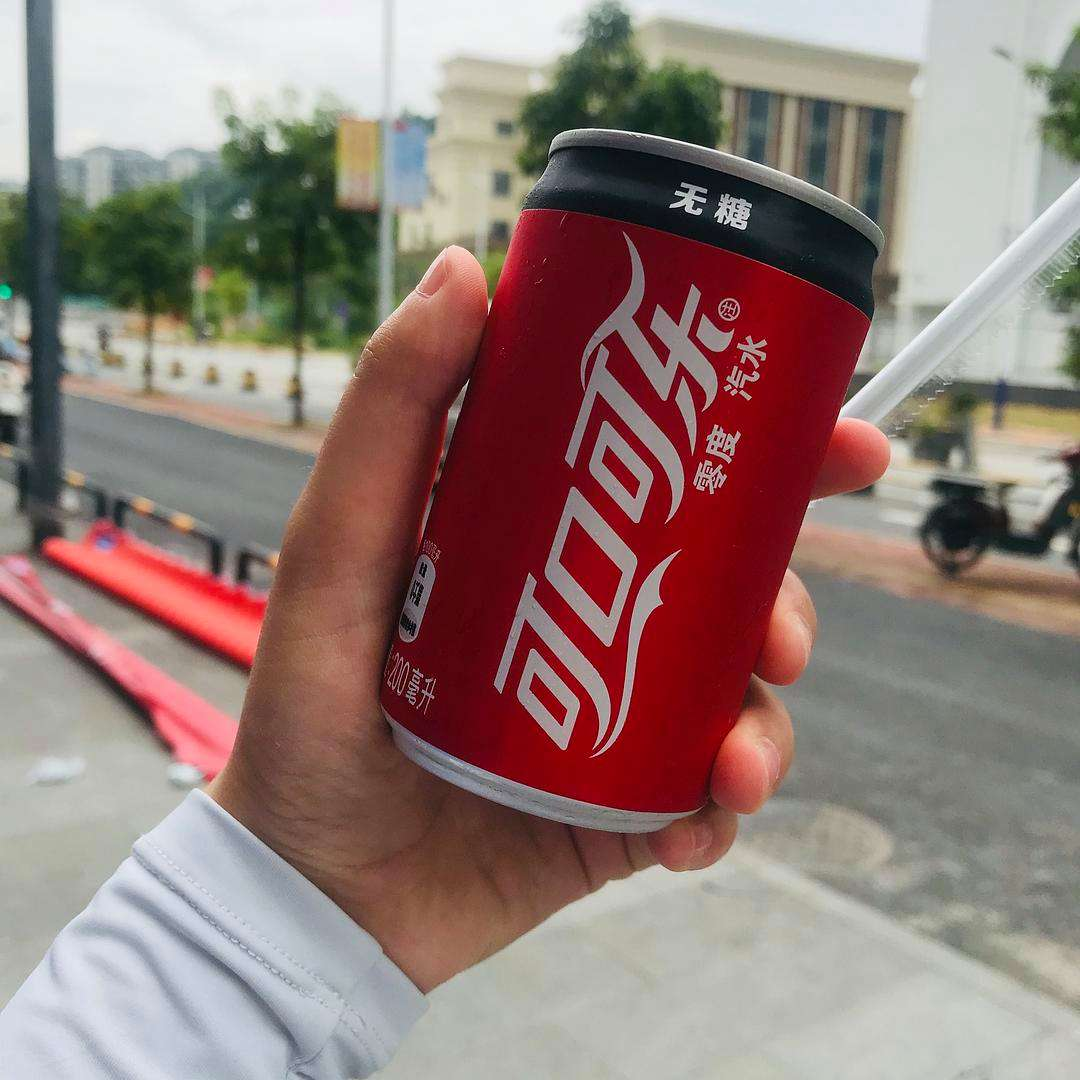no-phone: (214, 109, 901, 993)
